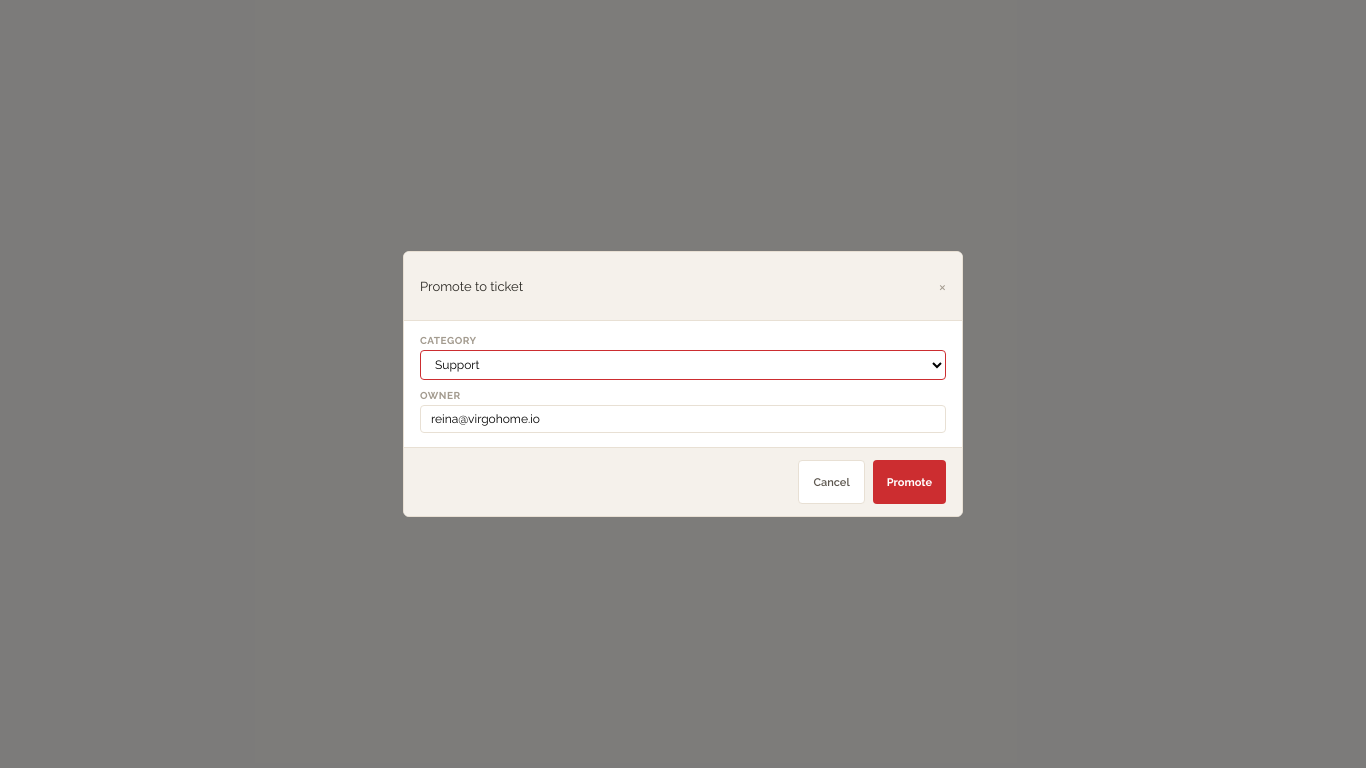
it: PromoteToTicketModal › shows the error banner and does NOT close on submission failure
Click the button "Promote" at (909,482), box x1=873 y1=460 x2=946 y2=504
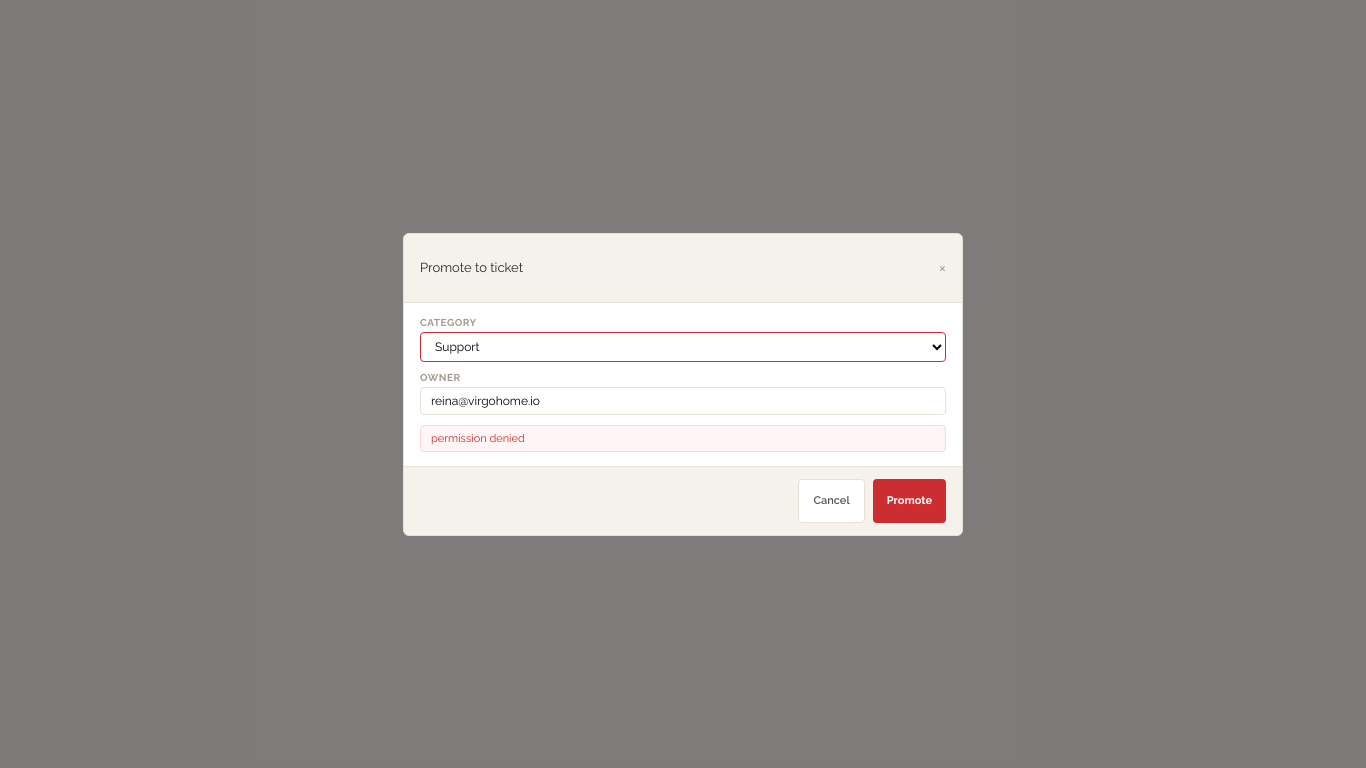
Check: the text "permission denied" is shown, box x1=420 y1=424 x2=946 y2=452
